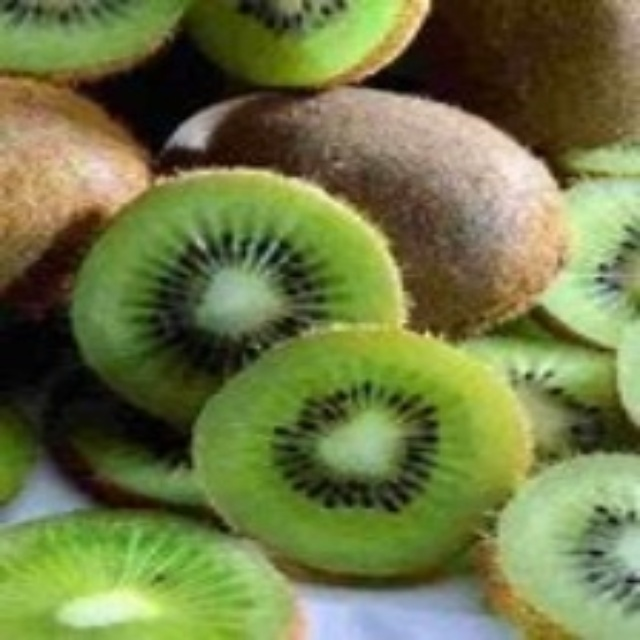kiwi: (80, 184, 531, 570), (210, 86, 580, 328)
